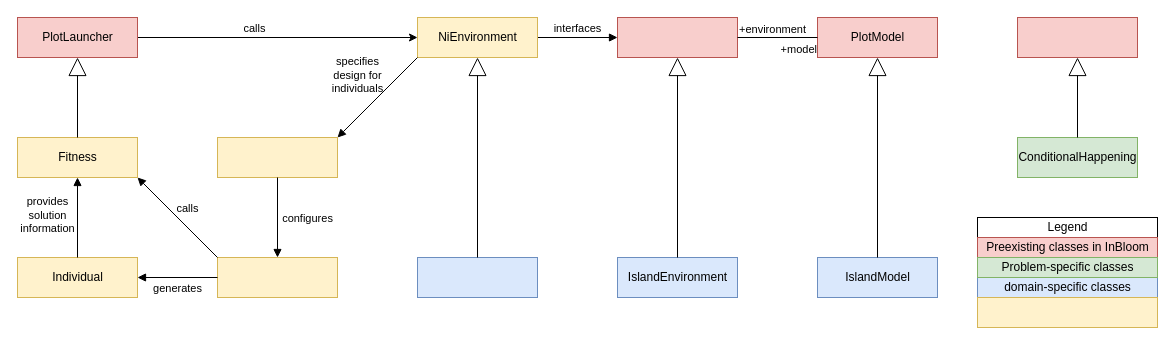
The diagram is 1175 pixels wide and 345 high, and some of its shapes have lost their labels. The centre of each missing label's shape, as x and y in pixels:
"Classes concerned with nature-inspired algorithms" belongs at point (1067, 312).
"Happening" belongs at point (1077, 37).
"NiAlgorithm" belongs at point (277, 277).
"NiIslandEnvironment" belongs at point (477, 277).
"NiLauncher" belongs at point (277, 157).
"PlotEnvironment" belongs at point (677, 37).
